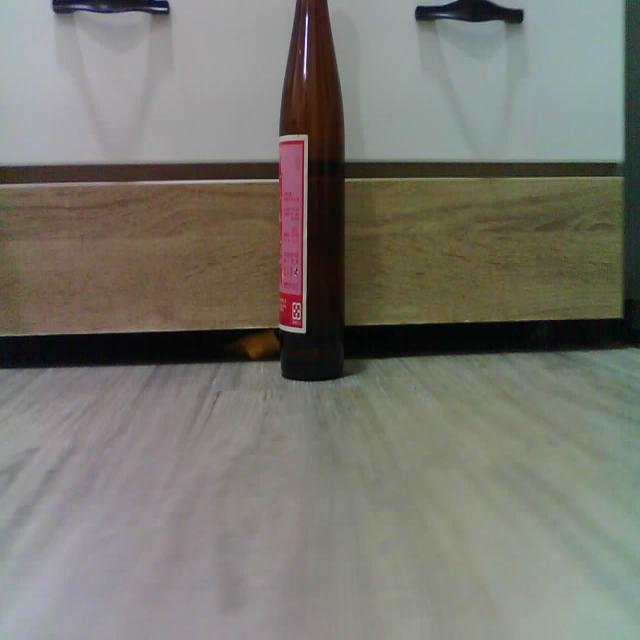bottle: (278, 0, 344, 380)
